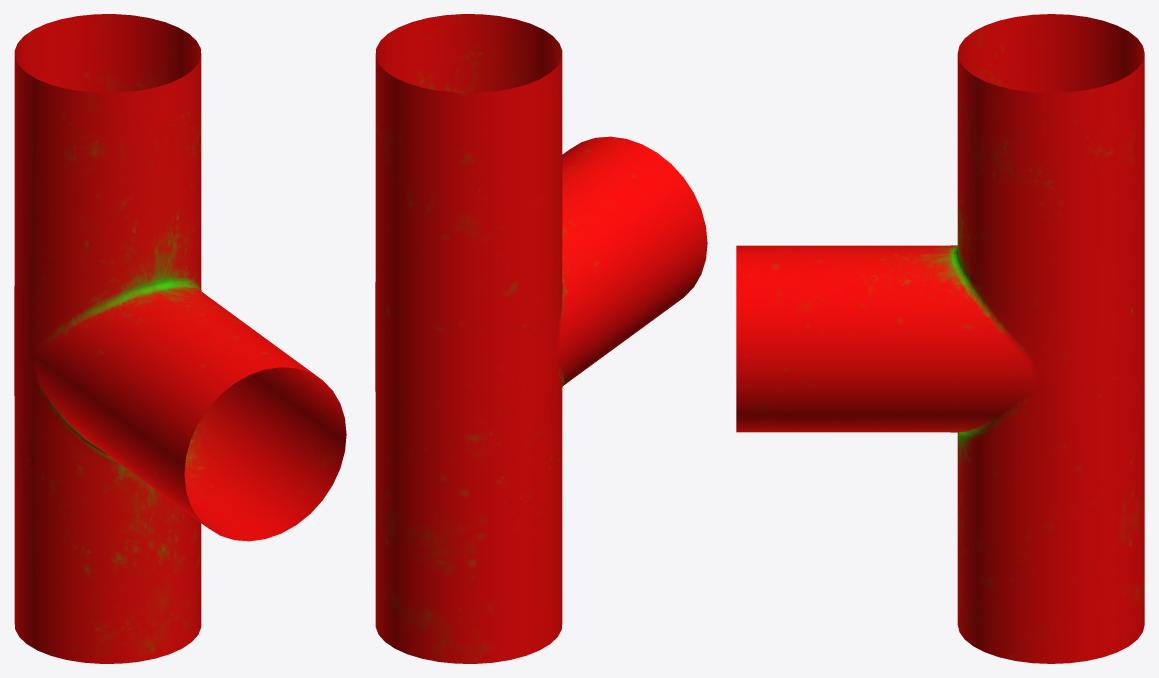
The model's file is SM_PlasticPipe_branch_01.fbx.
The picture shows the model from 3 angles, left to right: view 1: azimuth 30°, elevation 25°; view 2: azimuth 150°, elevation 25°; view 3: azimuth 270°, elevation 25°; orthographic projection.
Parts seen in each view (by area): view 1: SM_PlasticPipe_branch_01_LOD0; view 2: SM_PlasticPipe_branch_01_LOD0; view 3: SM_PlasticPipe_branch_01_LOD0.
Boxes of the visible parts, x1=… form: SM_PlasticPipe_branch_01_LOD0: x1=14, y1=14, x2=346, y2=663; SM_PlasticPipe_branch_01_LOD0: x1=375, y1=14, x2=707, y2=663; SM_PlasticPipe_branch_01_LOD0: x1=736, y1=14, x2=1144, y2=663.
Size of the model in its own units: 15.08 by 32.43 by 50.
